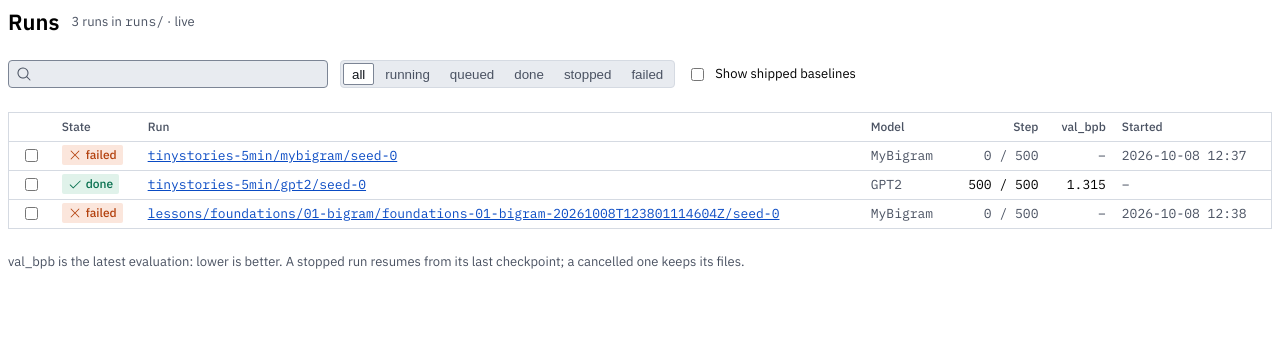
Test: Runs › adds the shipped baselines when asked
Check: the table is shown, box left=9, top=113, right=1271, bottom=228
Check: the text "baselines/tinystories-5min/bigram/seed-0" is not shown
Step 1. Click the checkbox labelled "Show shipped baselines" → (698, 74), box left=691, top=68, right=704, bottom=80
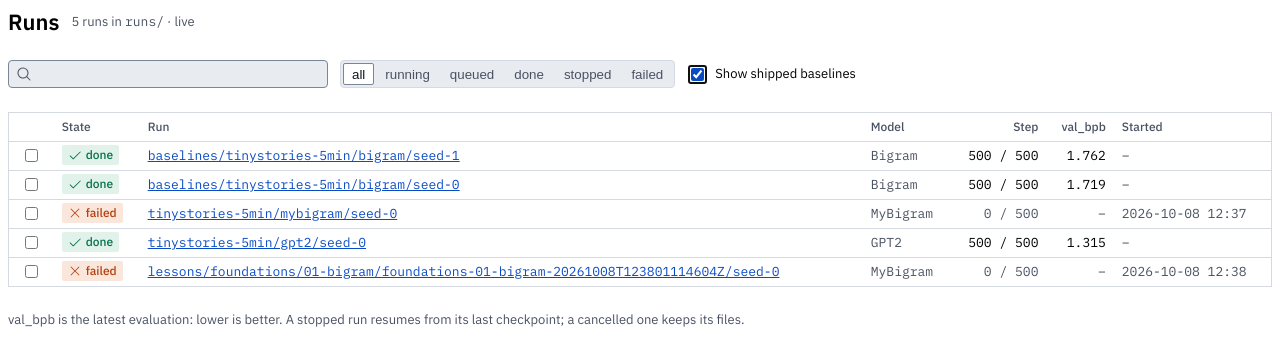
Check: the link "baselines/tinystories-5min/bigram/seed-0" is shown, box left=148, top=176, right=460, bottom=193
